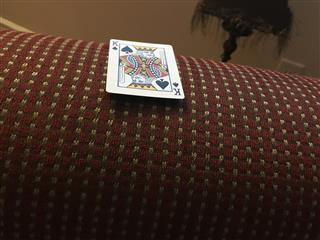KingOfSpades: (104, 37, 186, 100)
